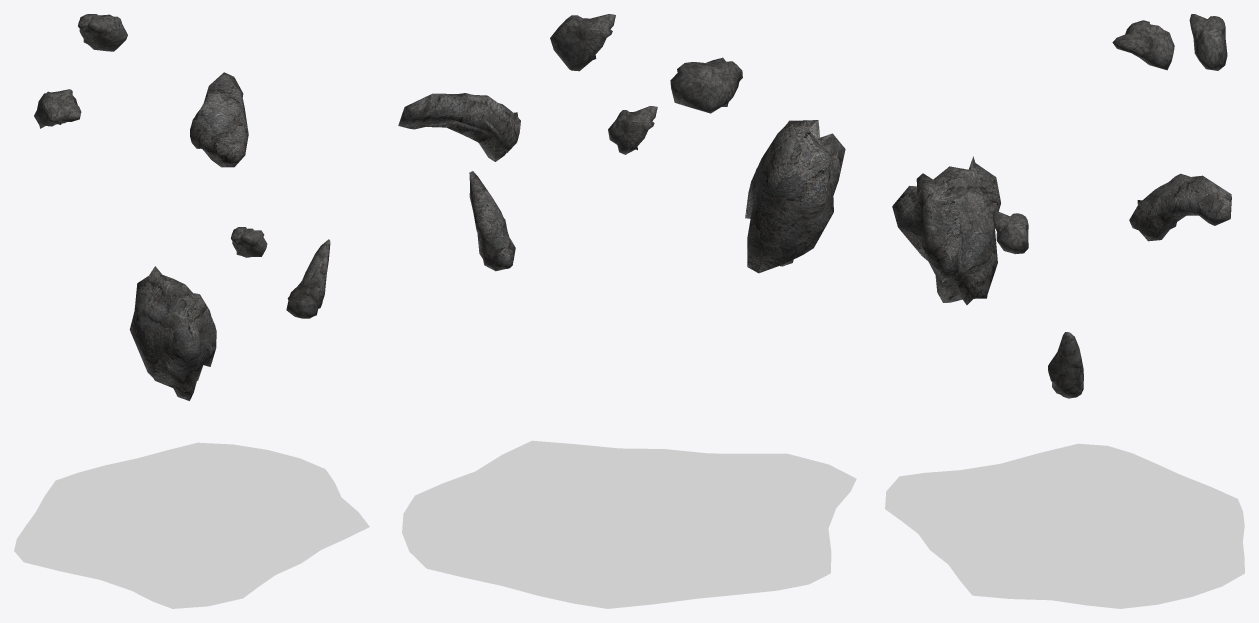
The model's file is asteroid-light.glb.
3 views of the same model, side by side, from view 1: azimuth 30°, elevation 25°; view 2: azimuth 150°, elevation 25°; view 3: azimuth 270°, elevation 25° (orthographic). The views are drawn at different scales.
Visible parts, largest first — view 1: Circle, Cube; view 2: Circle, Cube; view 3: Circle, Cube.
Part boxes in pixels (<box>): Circle: <box>14,442,369,608</box>; Cube: <box>34,14,330,400</box>; Circle: <box>402,440,856,608</box>; Cube: <box>398,14,845,273</box>; Circle: <box>885,443,1244,608</box>; Cube: <box>892,14,1231,398</box>.
Size of the model in its own units: 1.78 by 2.48 by 1.64.
1 material, 1 textured.
